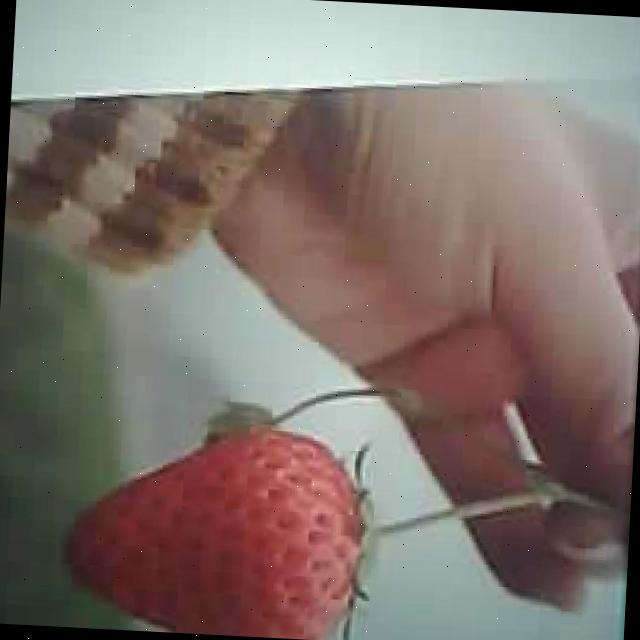strawberry: (64, 413, 373, 640)
